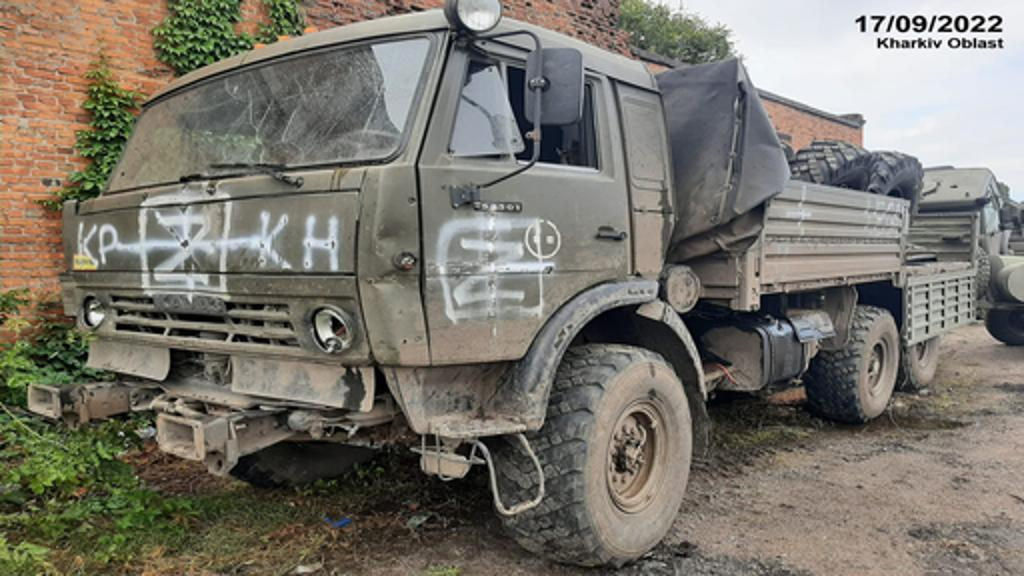TRUCK: (36, 2, 978, 566)
